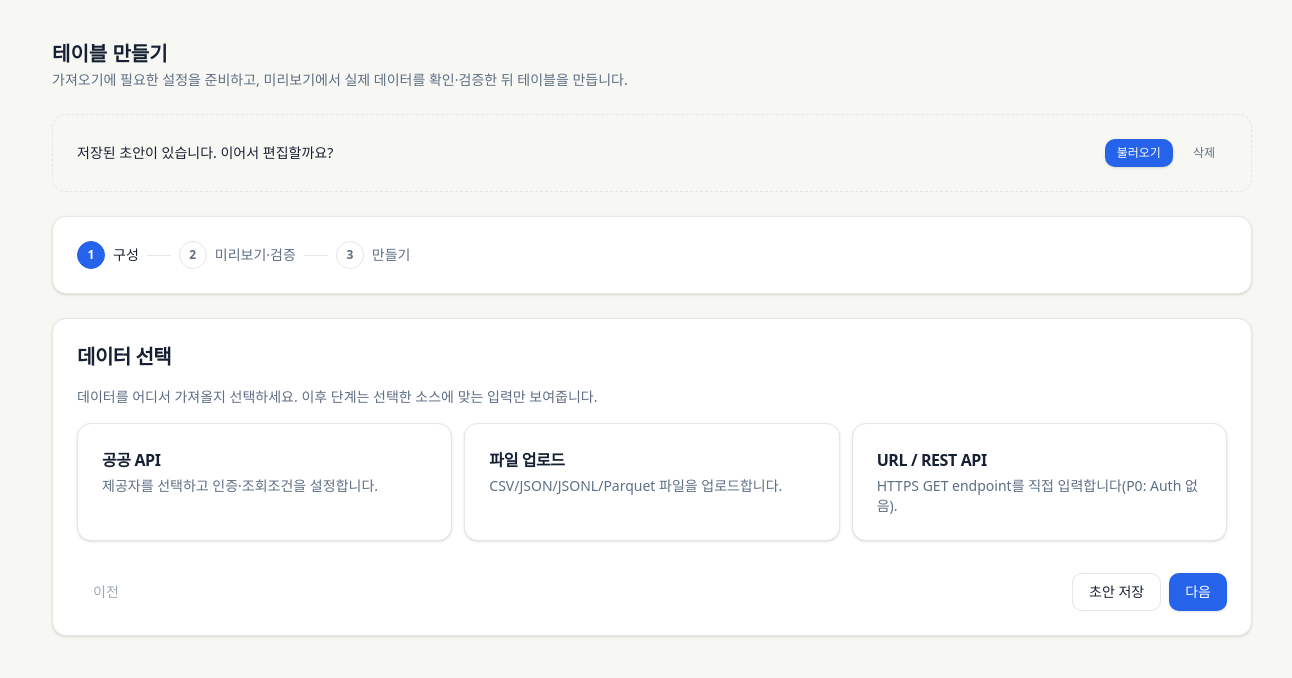
it: one table creation flow (#534) › an Ask KPubData draft that cannot become a spec is kept, not lost (#534 review) › deleting the kept draft from the error removes it
Click the button "불러오기" at (1139, 153), box x1=1105 y1=139 x2=1173 y2=167
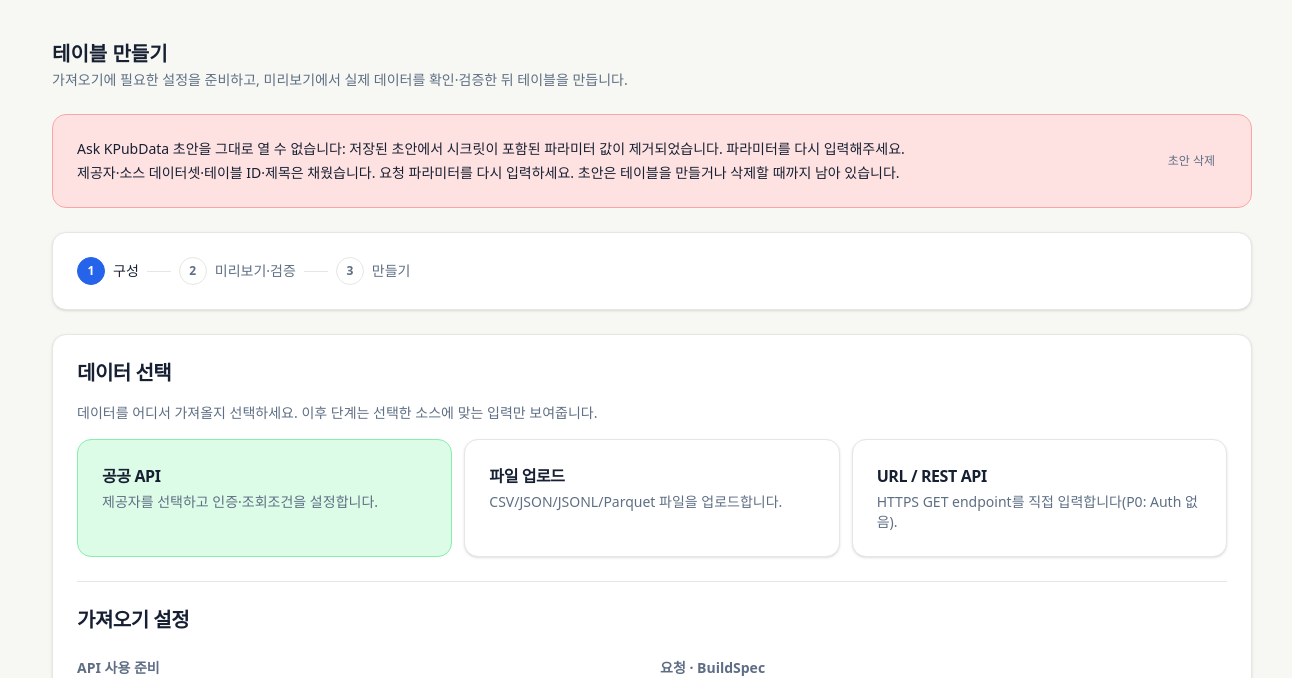
Click the button "초안 삭제" at (1191, 161), box x1=1156 y1=147 x2=1227 y2=175
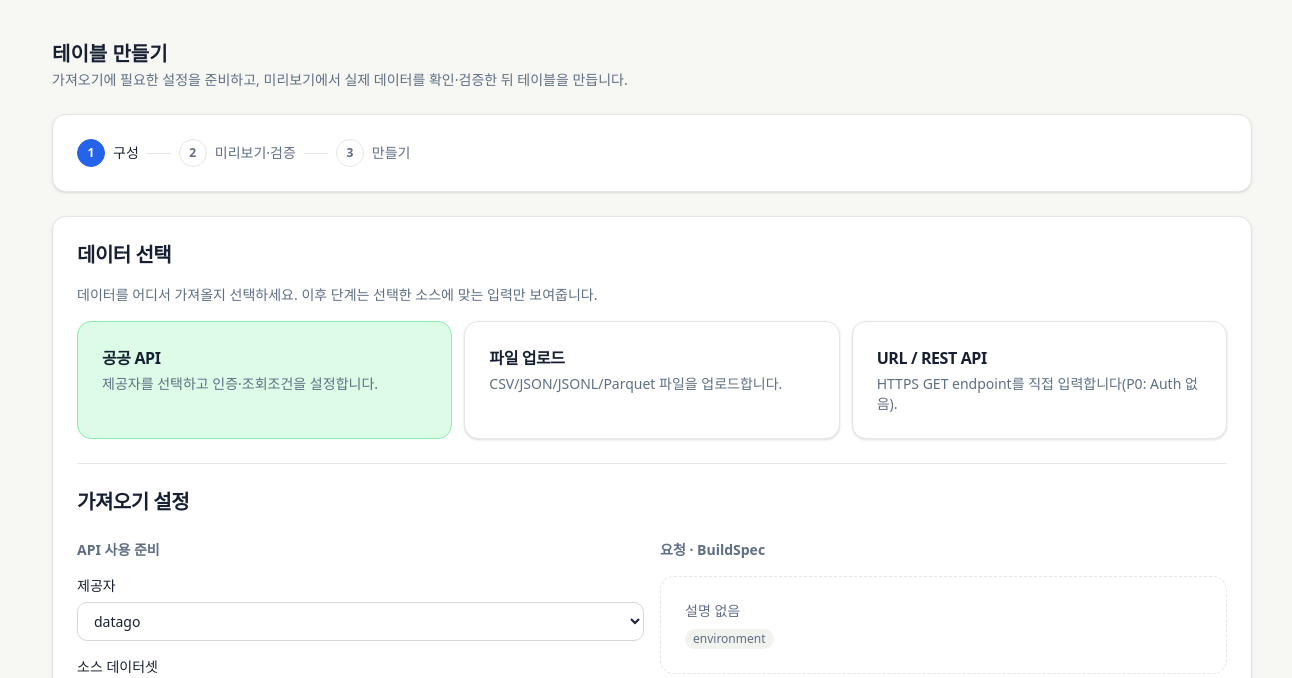
expect the message is gone: met
